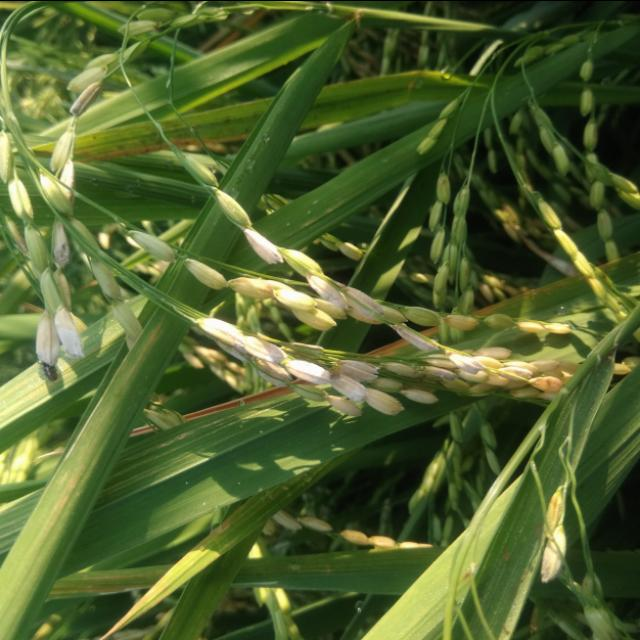Hawar Daun Bakteri: (184, 383, 290, 424)
Lalat: (34, 353, 64, 382)
brown spot: (88, 126, 158, 160), (207, 104, 261, 142)
